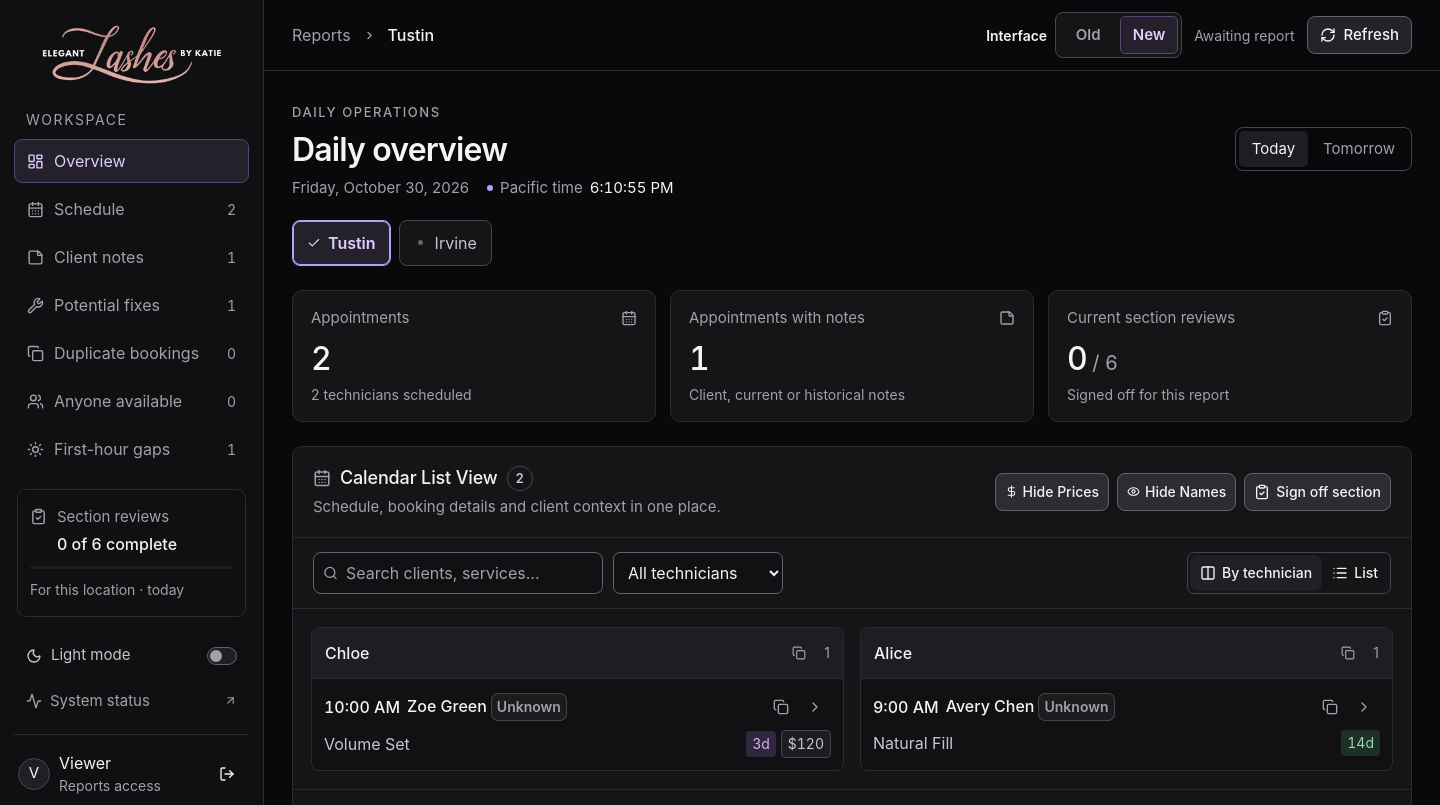
Test: copies the complete list in its displayed order without opening details or signing off
Check: the button with aria-label "Sign off Calendar List View" is shown, box [1244, 473, 1391, 511]
Click the button "List" at (1355,573), box [1322, 555, 1388, 591]
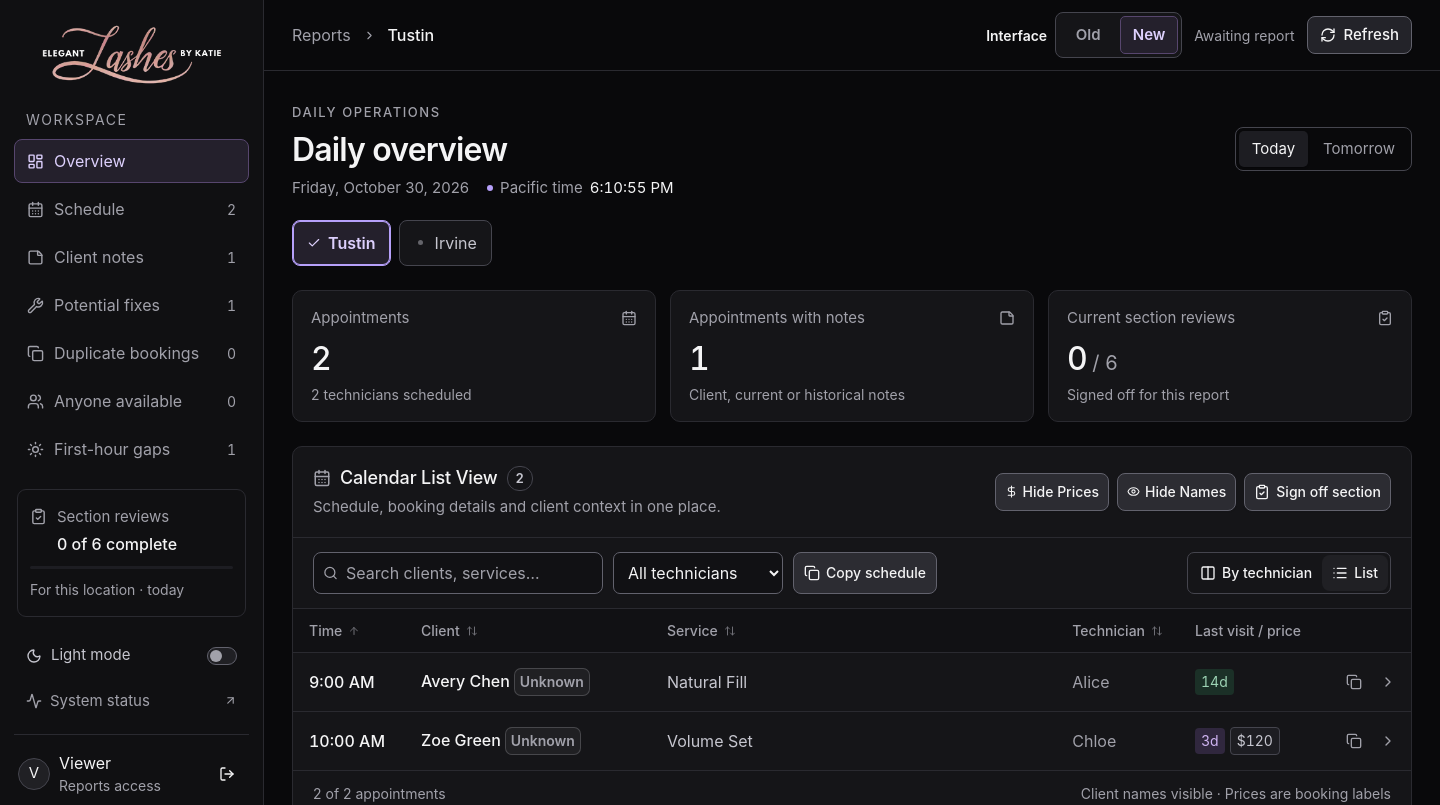
Click the button "Copy schedule" at (865,573), box [793, 552, 937, 594]
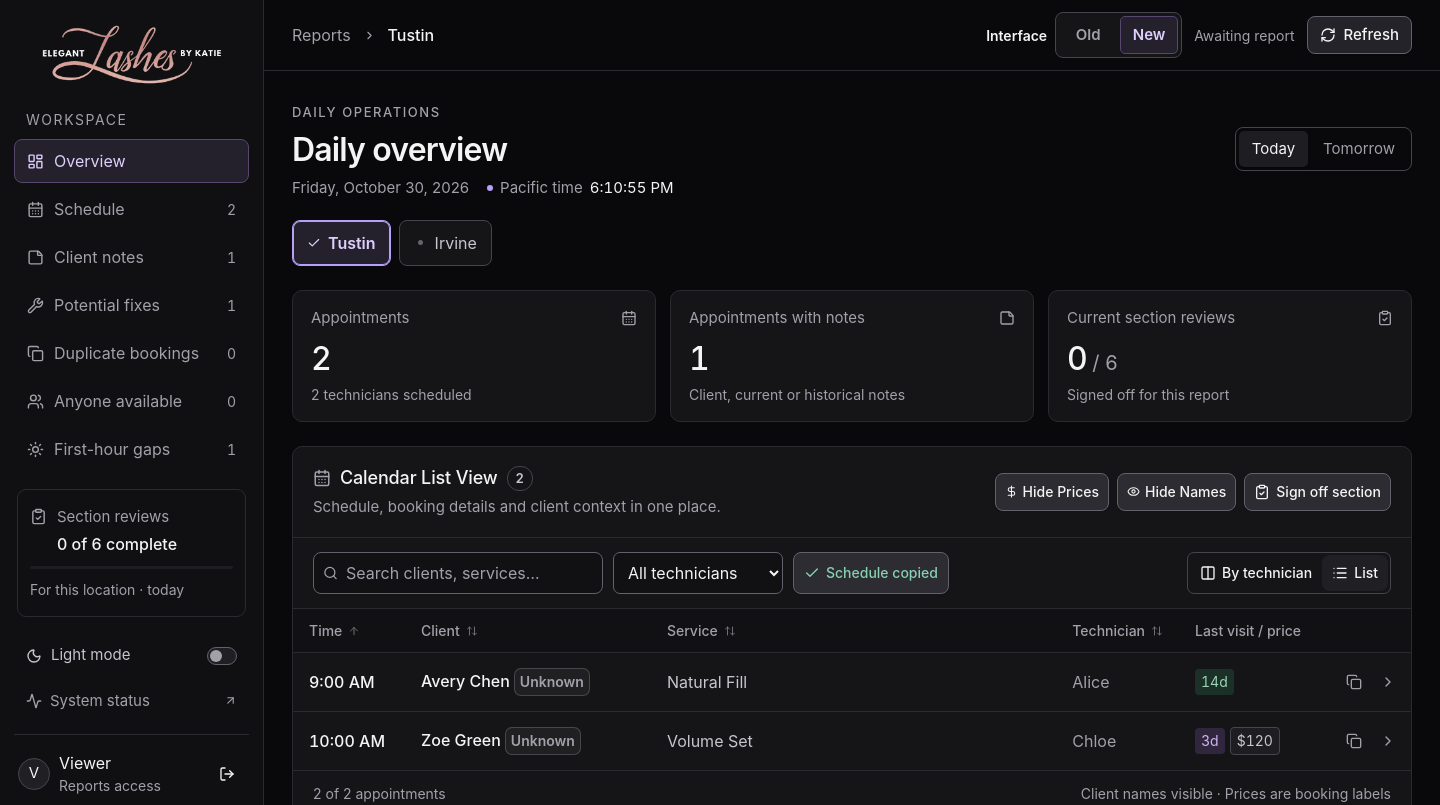
Check: the button "Schedule copied" is shown, box [793, 552, 949, 594]
Click the button "Time" at (335,630), box [309, 620, 360, 640]
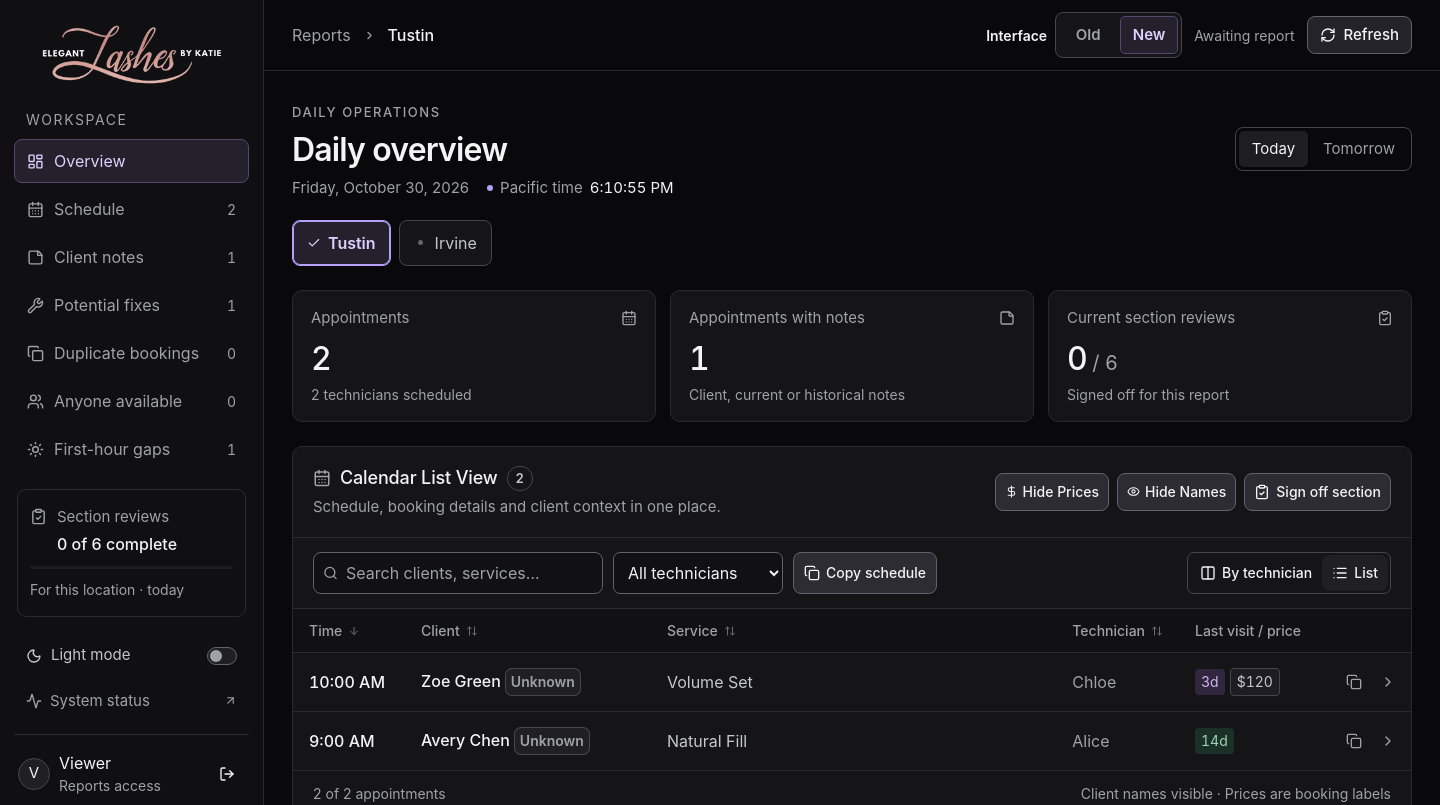
Click the button "Copy schedule" at (865,573), box [793, 552, 937, 594]
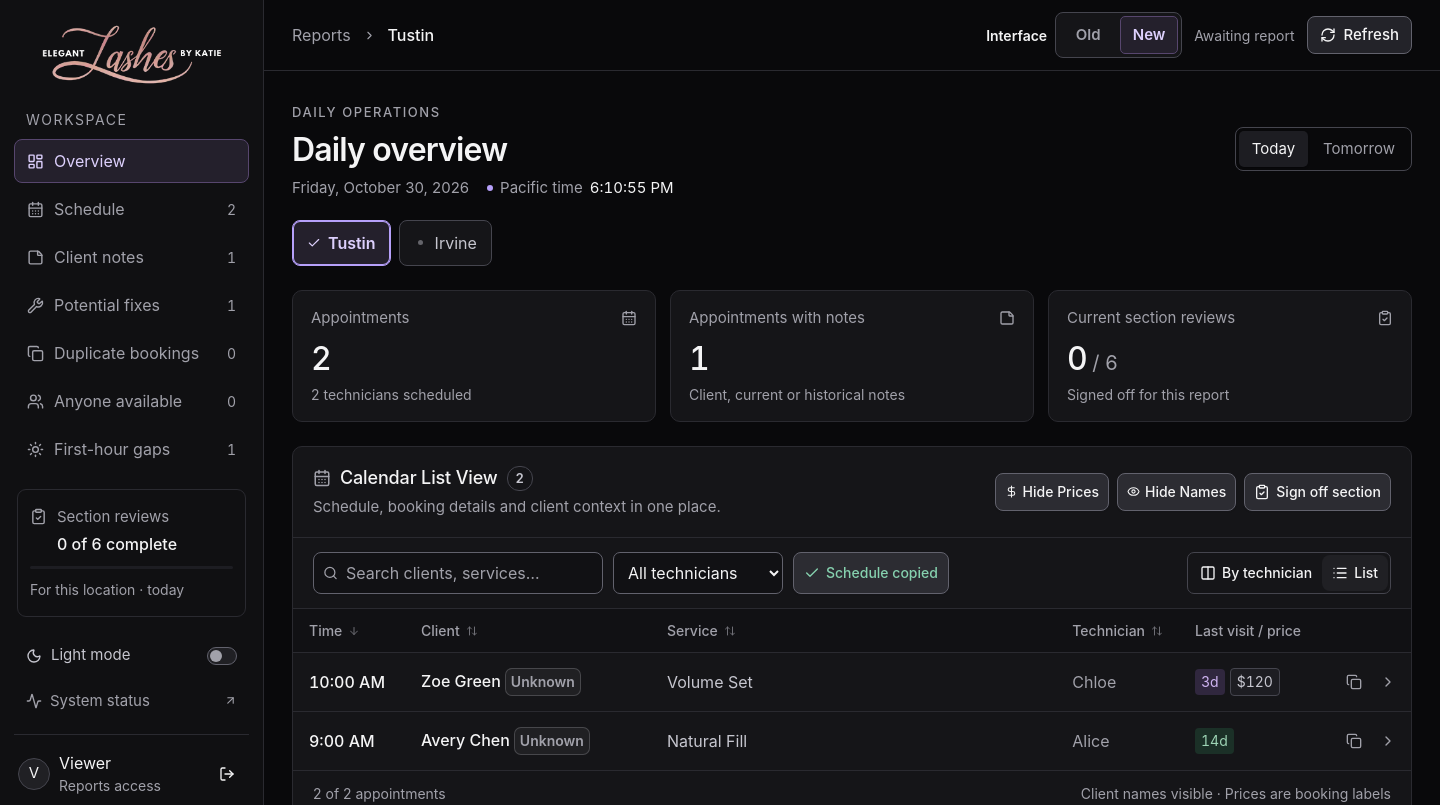
Check: the button "Schedule copied" is shown, box [793, 552, 949, 594]
